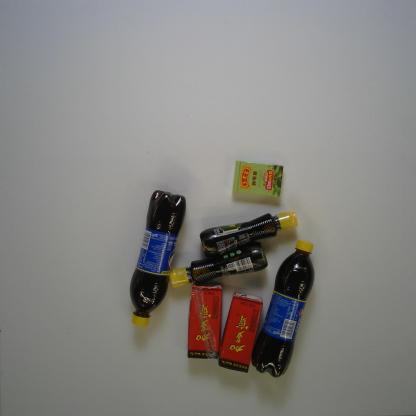Candy: (231, 159, 284, 198)
Drink: (250, 238, 316, 378), (129, 189, 187, 327), (217, 290, 264, 374), (186, 283, 224, 360)
Seasoner: (198, 210, 299, 260), (168, 244, 269, 290)
